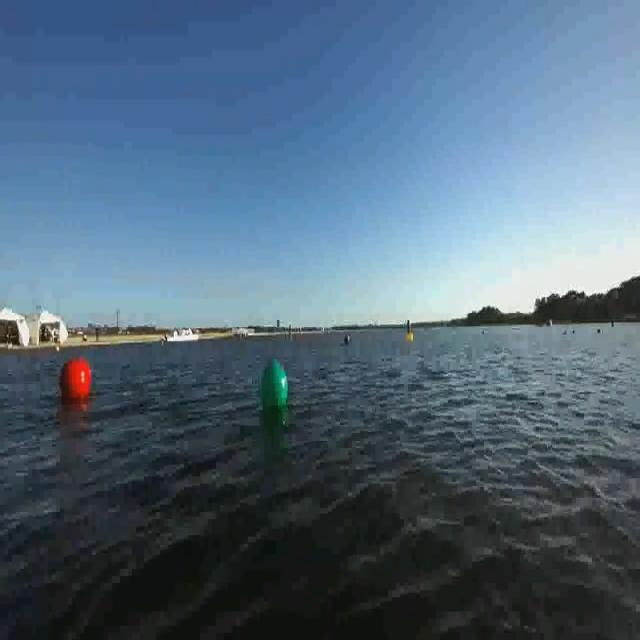blue-buoy: (344, 332, 350, 346)
green-buoy: (260, 358, 290, 413)
red-buoy: (60, 358, 91, 403)
yellow-buoy: (408, 332, 415, 345)
